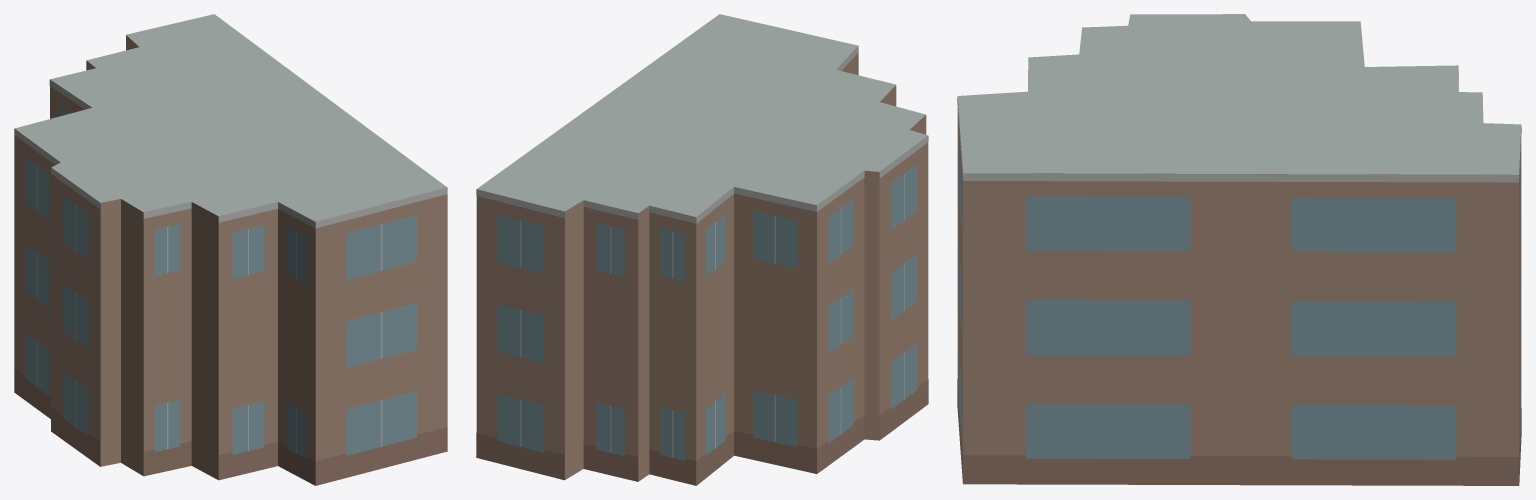
File: survey-upis-32641143.glb
3 views of the same model, side by side, from view 1: azimuth 30°, elevation 25°; view 2: azimuth 150°, elevation 25°; view 3: azimuth 270°, elevation 25° (orthographic). The views are drawn at different scales.
Visible parts, largest first — view 1: survey-upis-32641143.tmp; view 2: survey-upis-32641143.tmp; view 3: survey-upis-32641143.tmp.
Boxes of the visible parts, x1,y1,x2,y2 form: survey-upis-32641143.tmp: (14, 14, 447, 485); survey-upis-32641143.tmp: (476, 14, 928, 485); survey-upis-32641143.tmp: (957, 14, 1521, 485).
Size of the model in its own units: 10.87 by 9.8 by 16.11.
